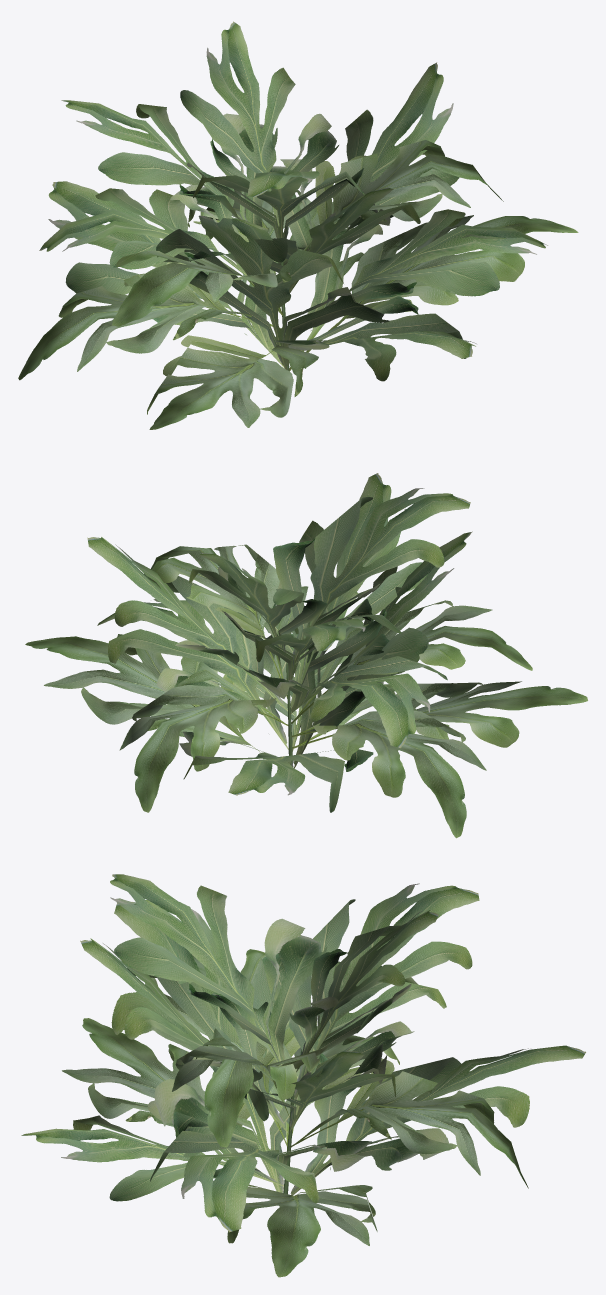
File: Phlebodium_Aureum_Autumn_Young.glb
3 views of the same model, one above another, from view 1: azimuth 30°, elevation 25°; view 2: azimuth 150°, elevation 25°; view 3: azimuth 270°, elevation 25° (orthographic). The views are drawn at different scales.
Visible parts, largest first — view 1: Phlebodium_Aureum_Autumn_Young__LOD3; view 2: Phlebodium_Aureum_Autumn_Young__LOD3; view 3: Phlebodium_Aureum_Autumn_Young__LOD3.
Part boxes in pixels (left/top/right/bottom): Phlebodium_Aureum_Autumn_Young__LOD3: left=18, top=21, right=578, bottom=429; Phlebodium_Aureum_Autumn_Young__LOD3: left=25, top=473, right=587, bottom=838; Phlebodium_Aureum_Autumn_Young__LOD3: left=21, top=874, right=585, bottom=1277.
Size of the model in its own units: 1.51 by 0.8248 by 1.36.
Materials: 2 (2 with a texture image).
